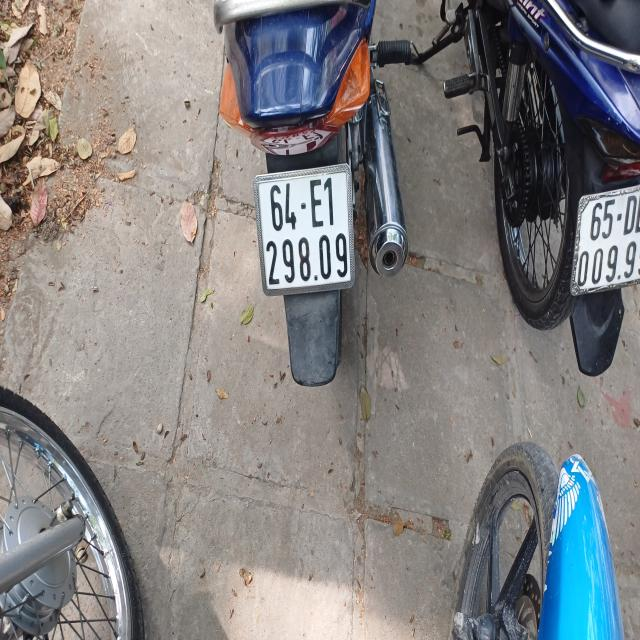0: (317, 231, 333, 280)
1: (324, 176, 338, 225)
2: (266, 238, 282, 289)
4: (284, 181, 299, 230)
6: (270, 183, 283, 232)
8: (298, 232, 312, 284)
9: (280, 236, 296, 285), (335, 230, 348, 279)
E: (308, 176, 324, 227)
